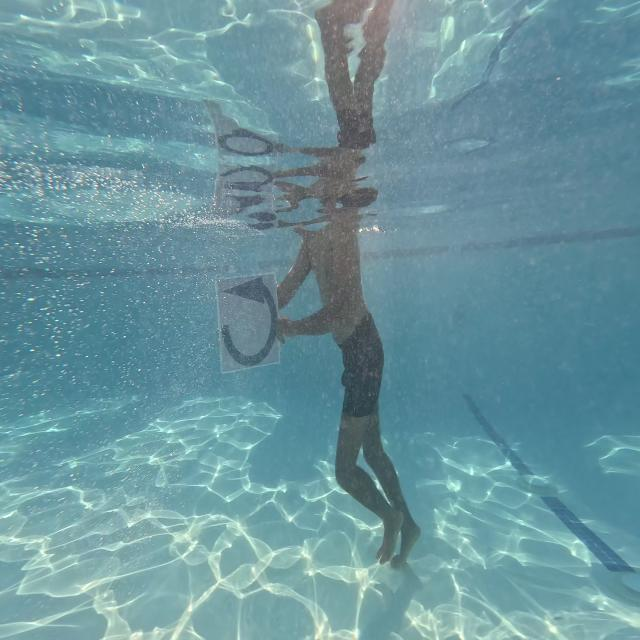blue_side: (212, 258, 291, 397)
